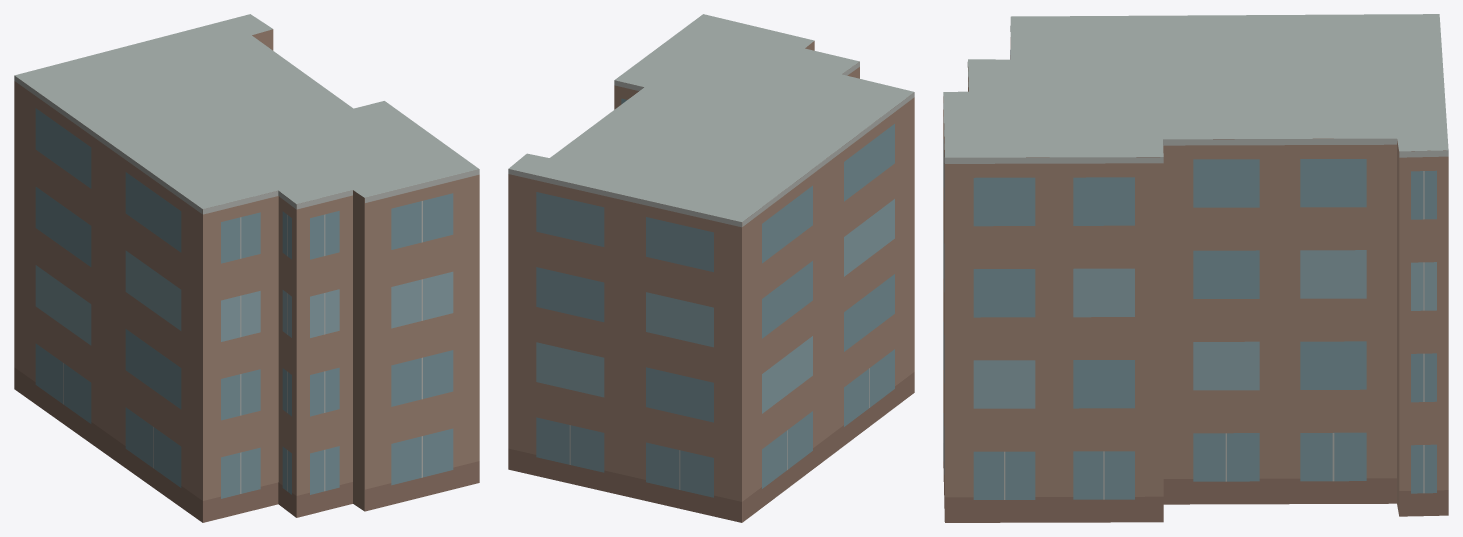
The model's file is survey-upis-32778821.glb.
3 views of the same model, side by side, from view 1: azimuth 30°, elevation 25°; view 2: azimuth 150°, elevation 25°; view 3: azimuth 270°, elevation 25° (orthographic). The views are drawn at different scales.
Visible parts, largest first — view 1: survey-upis-32778821.tmp; view 2: survey-upis-32778821.tmp; view 3: survey-upis-32778821.tmp.
Boxes of the visible parts, x1,y1,x2,y2 form: survey-upis-32778821.tmp: (14, 14, 479, 522); survey-upis-32778821.tmp: (508, 14, 914, 522); survey-upis-32778821.tmp: (943, 14, 1448, 522).
Size of the model in its own units: 12 by 14.21 by 17.83.
